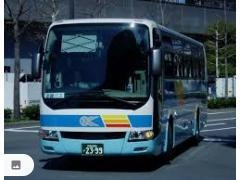bus: (38, 18, 210, 166)
